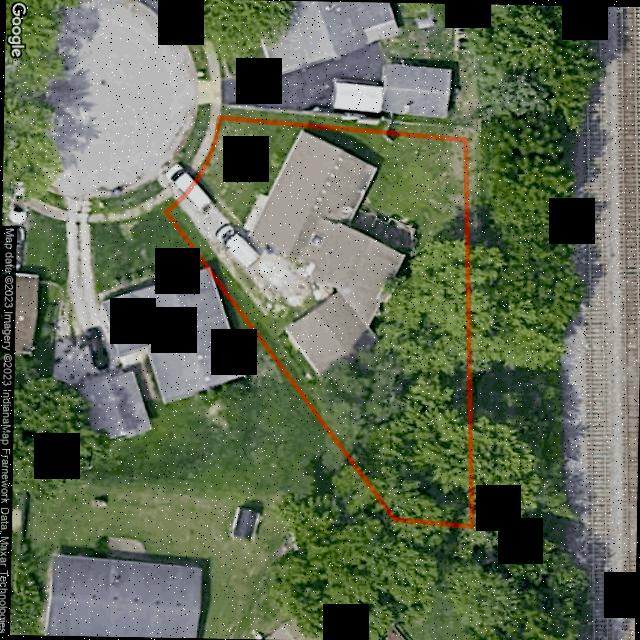Driveway: (178, 182, 332, 325)
Extra Driveway: (155, 159, 194, 200)
Extra Lawn: (175, 114, 209, 168), (143, 177, 163, 196), (159, 195, 175, 210)
Extra Sidewalk: (184, 114, 218, 178), (152, 189, 170, 204)
House: (251, 130, 404, 323)
Other: (286, 292, 366, 374), (349, 208, 416, 253), (243, 191, 268, 233)
